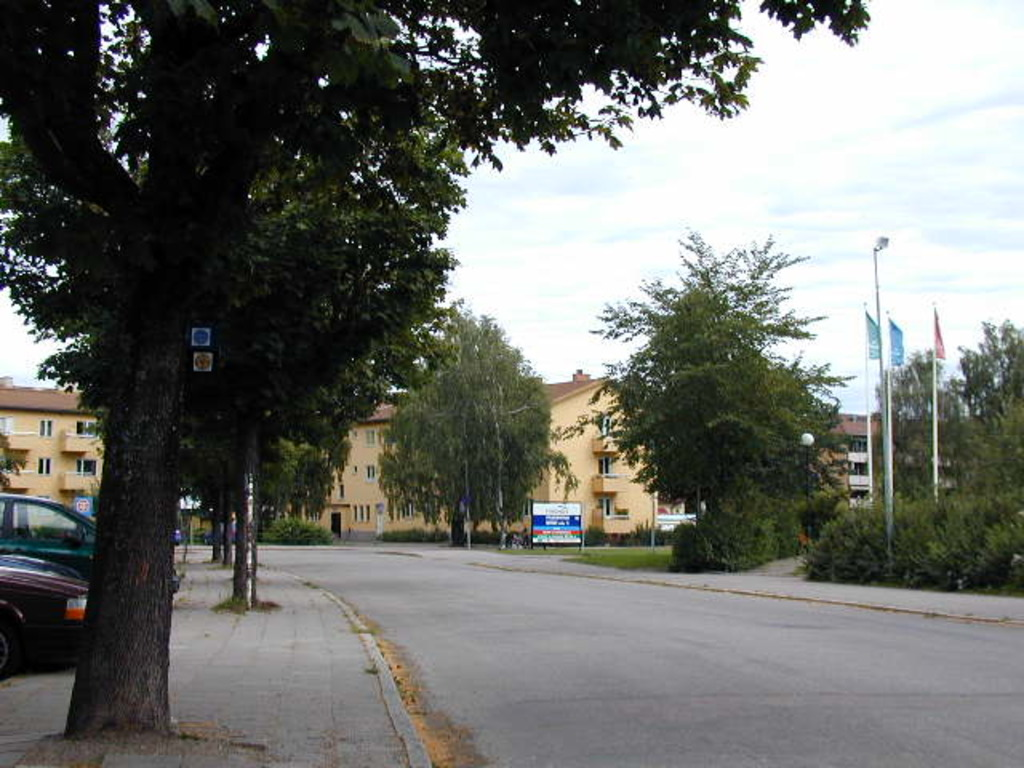Car: (0, 489, 179, 590)
